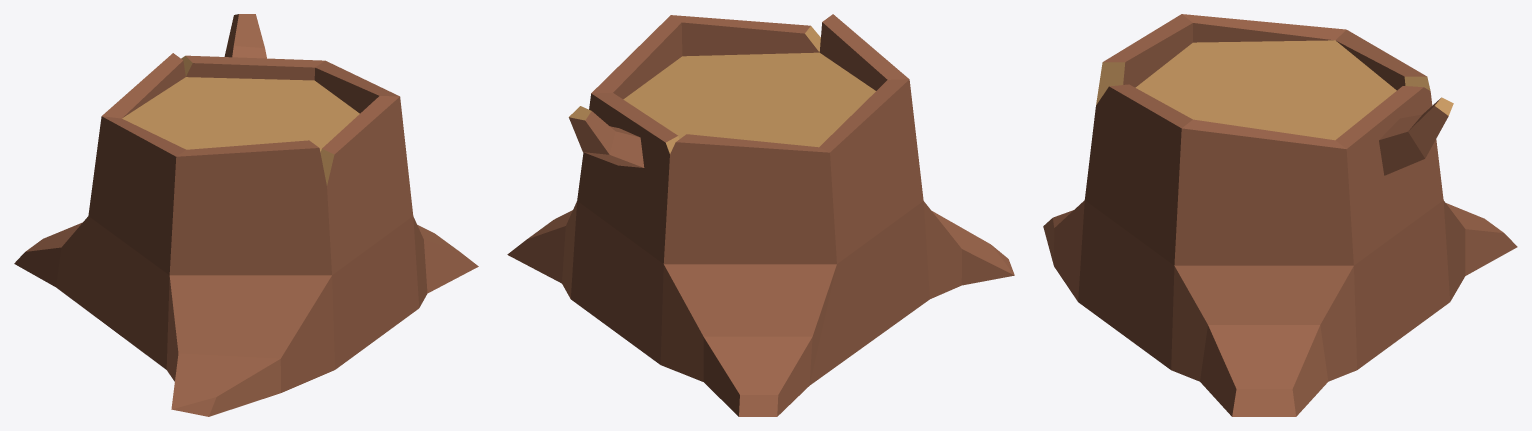
The model's file is trunk.gltf.
The picture shows the model from 3 angles, left to right: view 1: azimuth 30°, elevation 25°; view 2: azimuth 150°, elevation 25°; view 3: azimuth 270°, elevation 25°; orthographic projection. The views are drawn at different scales.
Parts seen in each view (by area): view 1: Object_2, Object_3; view 2: Object_2, Object_3; view 3: Object_2, Object_3.
Part boxes in pixels (<box>): Object_2: <box>14,14,478,416</box>; Object_3: <box>122,55,359,185</box>; Object_2: <box>507,14,1014,416</box>; Object_3: <box>569,26,875,153</box>; Object_2: <box>1043,14,1517,416</box>; Object_3: <box>1096,40,1453,140</box>.
Size of the model in its own units: 1 by 0.5566 by 0.9866.
